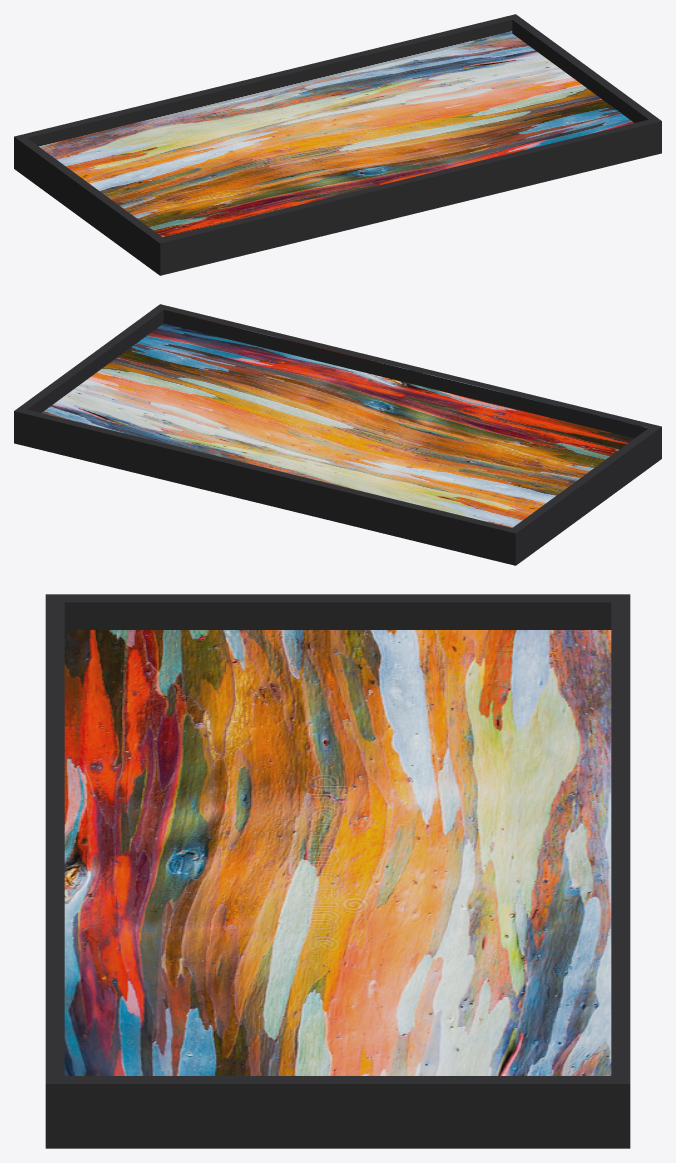
File: painting.FBX
The picture shows the model from 3 angles, top to bottom: view 1: azimuth 30°, elevation 25°; view 2: azimuth 150°, elevation 25°; view 3: azimuth 270°, elevation 25°; orthographic projection. The views are drawn at different scales.
Parts seen in each view (by area): view 1: Box001; view 2: Box001; view 3: Box001.
Boxes of the visible parts, x1=… form: Box001: x1=14, y1=14, x2=661, y2=275; Box001: x1=14, y1=304, x2=661, y2=565; Box001: x1=45, y1=594, x2=630, y2=1148.
Size of the model in its own units: 60.49 by 3.72 by 30.52.
Materials: 1 (1 with a texture image).
